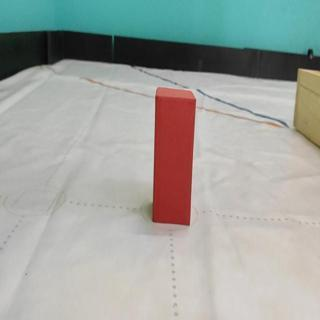redbox: (152, 87, 196, 225)
